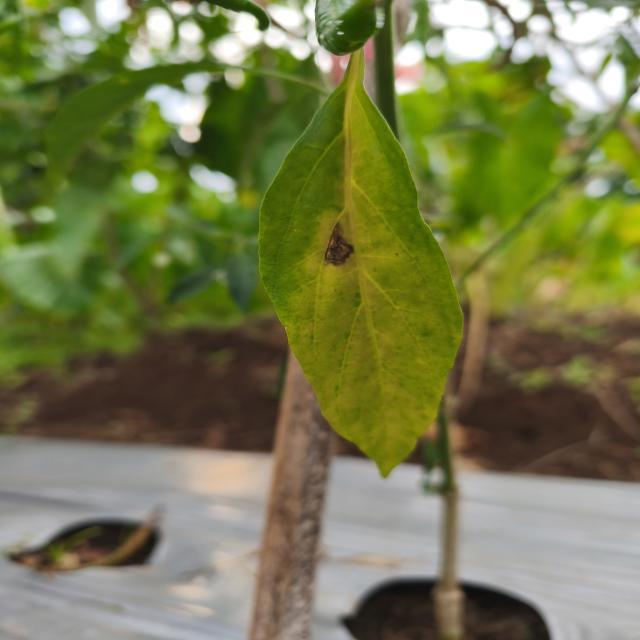Virus Kuning: (256, 46, 465, 478)
